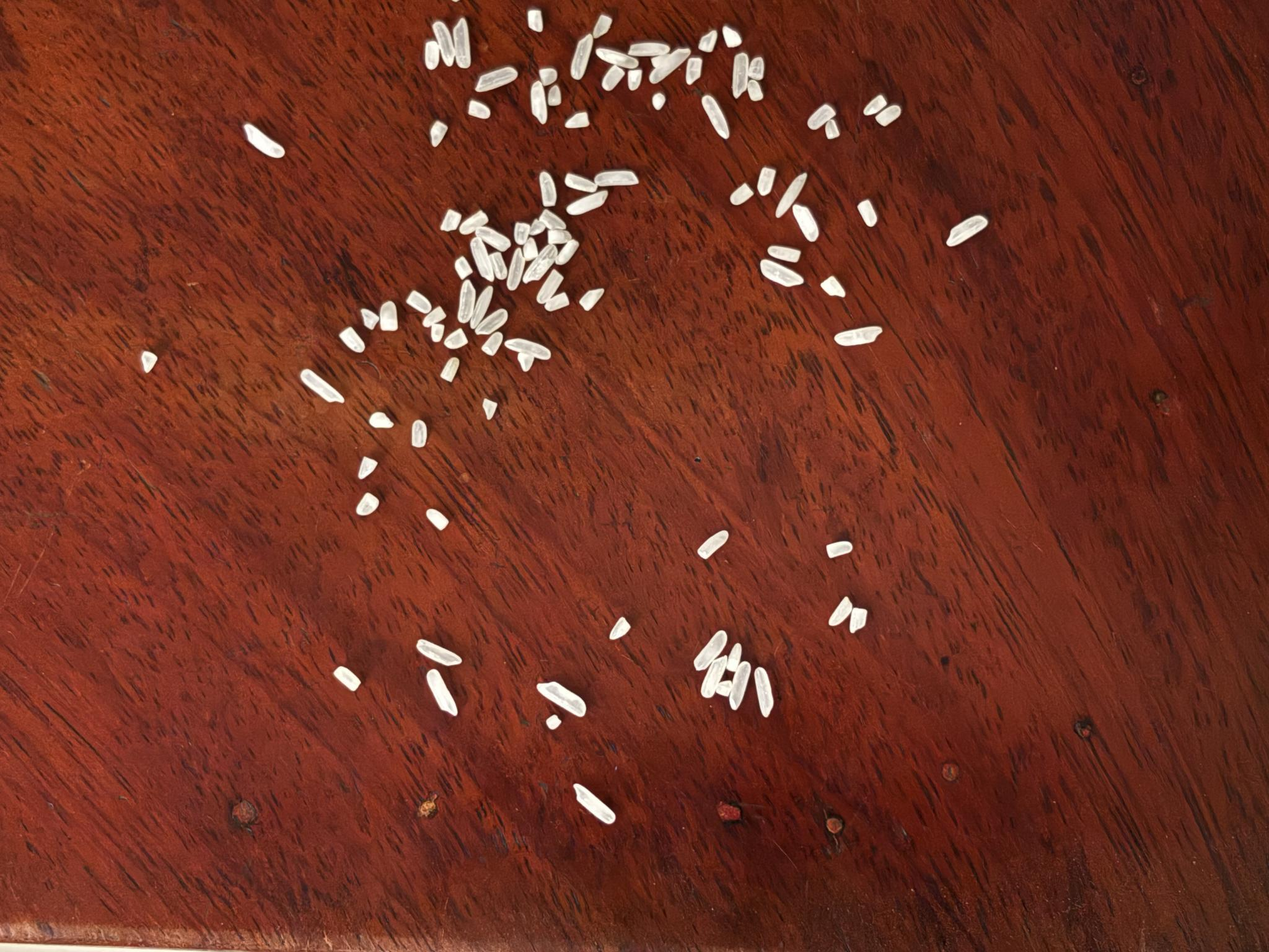Rice-th-y-nh: (536, 674, 587, 723), (573, 780, 616, 828), (423, 667, 461, 719), (415, 633, 462, 674), (772, 170, 810, 220), (649, 43, 691, 88), (759, 253, 803, 293), (946, 210, 988, 251), (834, 319, 883, 354), (692, 628, 729, 674), (473, 60, 519, 97), (698, 94, 734, 141), (748, 666, 780, 718), (504, 331, 551, 366), (566, 183, 608, 222), (565, 32, 598, 81), (243, 122, 285, 159), (725, 660, 756, 710), (300, 368, 344, 403), (697, 653, 730, 699), (594, 161, 639, 194), (789, 201, 823, 244), (466, 236, 497, 283), (595, 42, 639, 75), (448, 18, 477, 68), (428, 20, 459, 66), (726, 51, 755, 99), (452, 279, 481, 324), (525, 80, 554, 125), (628, 34, 670, 64), (468, 284, 495, 330), (474, 305, 509, 339), (502, 248, 529, 291), (473, 224, 512, 253), (535, 268, 565, 305), (696, 528, 729, 560), (521, 255, 556, 285), (767, 239, 802, 268), (535, 170, 561, 208), (806, 102, 837, 132), (563, 171, 598, 195), (458, 209, 489, 236), (828, 596, 854, 628), (754, 165, 780, 197), (376, 300, 402, 332), (332, 665, 362, 691), (855, 198, 880, 229), (578, 286, 606, 313), (728, 180, 754, 209), (681, 55, 705, 86), (486, 250, 510, 281), (339, 326, 366, 353), (600, 64, 626, 92), (465, 96, 493, 122), (846, 606, 871, 635), (544, 289, 570, 316), (874, 103, 902, 128), (480, 330, 505, 358), (819, 274, 847, 299), (825, 537, 853, 562), (555, 238, 579, 267), (538, 207, 567, 231), (406, 289, 433, 314), (724, 642, 745, 674), (438, 355, 461, 384), (696, 28, 720, 55), (439, 207, 463, 234), (564, 108, 591, 132), (546, 225, 574, 248), (408, 419, 430, 448), (422, 40, 443, 70), (355, 492, 380, 517), (443, 327, 469, 351), (720, 24, 743, 50), (746, 55, 768, 82), (863, 94, 888, 117), (609, 615, 631, 641), (524, 7, 546, 33), (425, 509, 450, 531), (452, 256, 474, 281), (422, 306, 447, 328), (591, 14, 613, 39), (512, 220, 533, 246), (536, 65, 559, 88), (745, 78, 766, 103), (521, 236, 541, 262), (357, 456, 378, 480), (359, 308, 380, 331), (545, 83, 564, 108), (516, 351, 537, 373), (369, 412, 394, 430), (714, 677, 734, 699), (625, 68, 644, 91), (823, 117, 841, 141), (481, 398, 499, 421), (140, 350, 158, 373), (527, 218, 547, 238), (650, 91, 668, 111), (430, 322, 446, 343), (545, 713, 563, 731)
